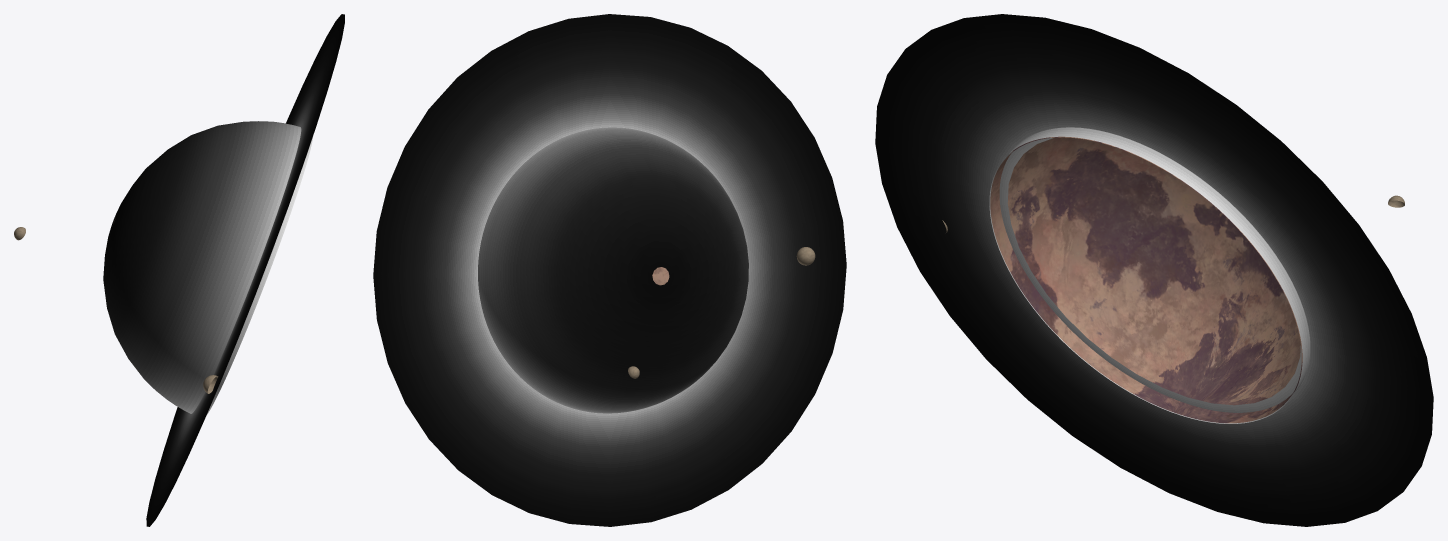
File: env_space_tatooine_01_pre.glb
3 renders of one model, left to right at view 1: azimuth 30°, elevation 25°; view 2: azimuth 150°, elevation 25°; view 3: azimuth 270°, elevation 25°, orthographic. The views are drawn at different scales.
Visible parts, largest first — view 1: planet_fresnel_mesh, planet_glow_mesh; view 2: planet_glow_mesh, planet_fresnel_mesh; view 3: planet_glow_mesh, planet_body_mesh, planet_fresnel_mesh.
Boxes of the visible parts, x1=… form: planet_fresnel_mesh: x1=103, y1=121, x2=313, y2=415; planet_glow_mesh: x1=146, y1=14, x2=344, y2=526; planet_glow_mesh: x1=373, y1=14, x2=846, y2=526; planet_fresnel_mesh: x1=478, y1=127, x2=748, y2=413; planet_glow_mesh: x1=875, y1=14, x2=1433, y2=526; planet_body_mesh: x1=990, y1=136, x2=1302, y2=423; planet_fresnel_mesh: x1=989, y1=127, x2=1310, y2=423.
Size of the model in its own units: 580 by 840 by 751.
Materials: 4 (4 with a texture image).
